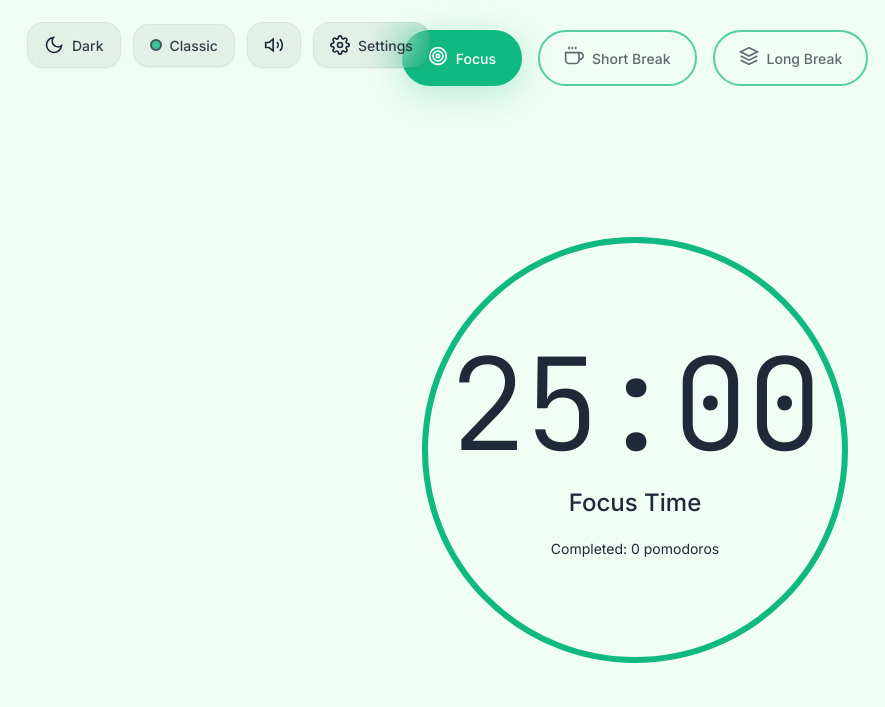
Test case: Pomodoro Timer App › Theme Selection › opens theme selector when theme button is clicked
Click the button "Classic".
click(184, 45)  # box [132,24,235,66]
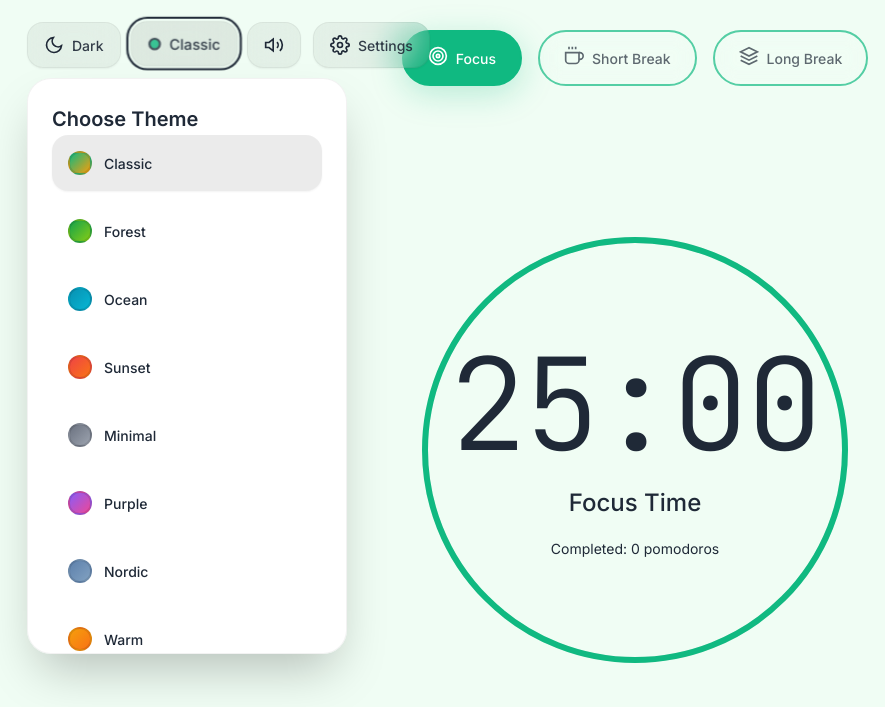
Expected: the heading "Choose Theme" is shown, [52,107,198,131]
